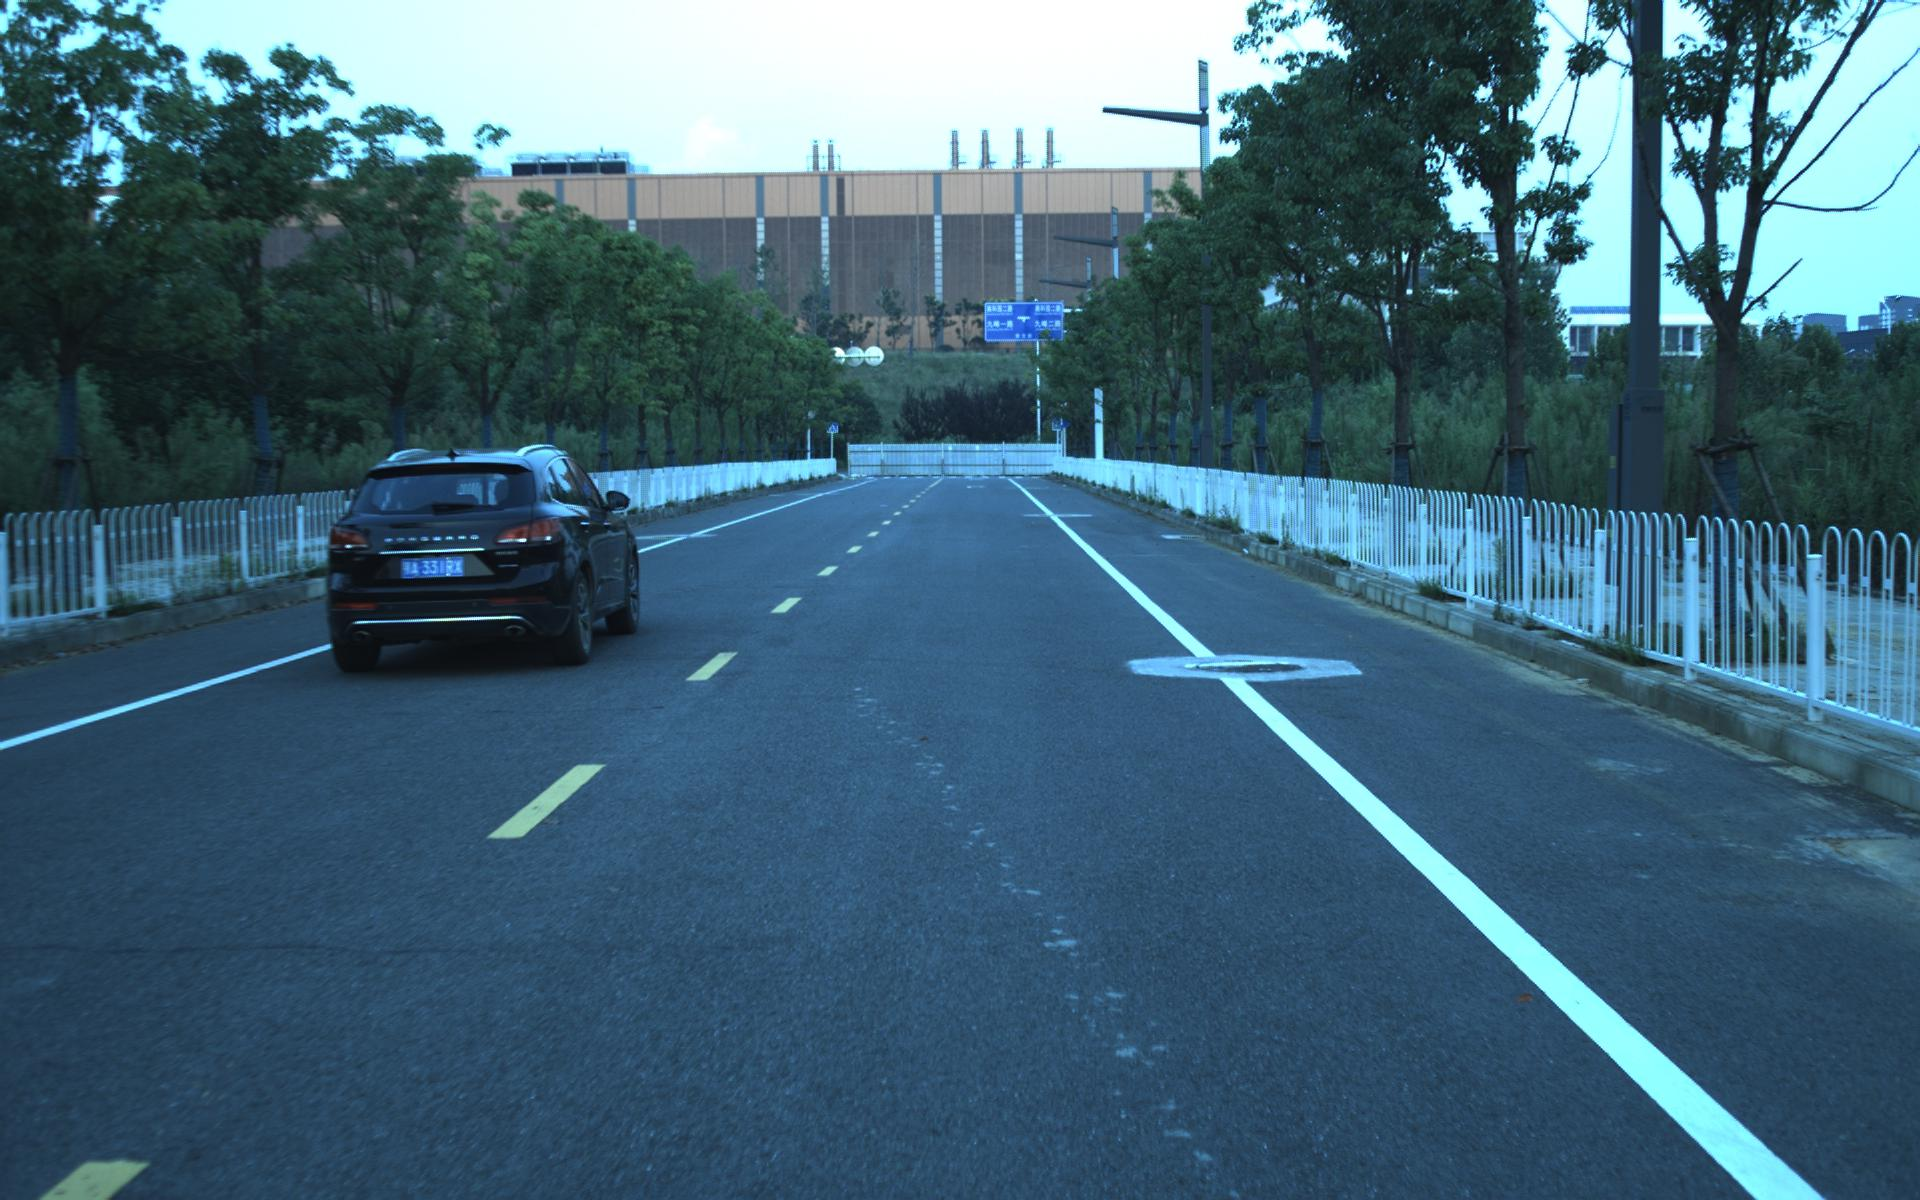Car: (310, 438, 648, 676)
